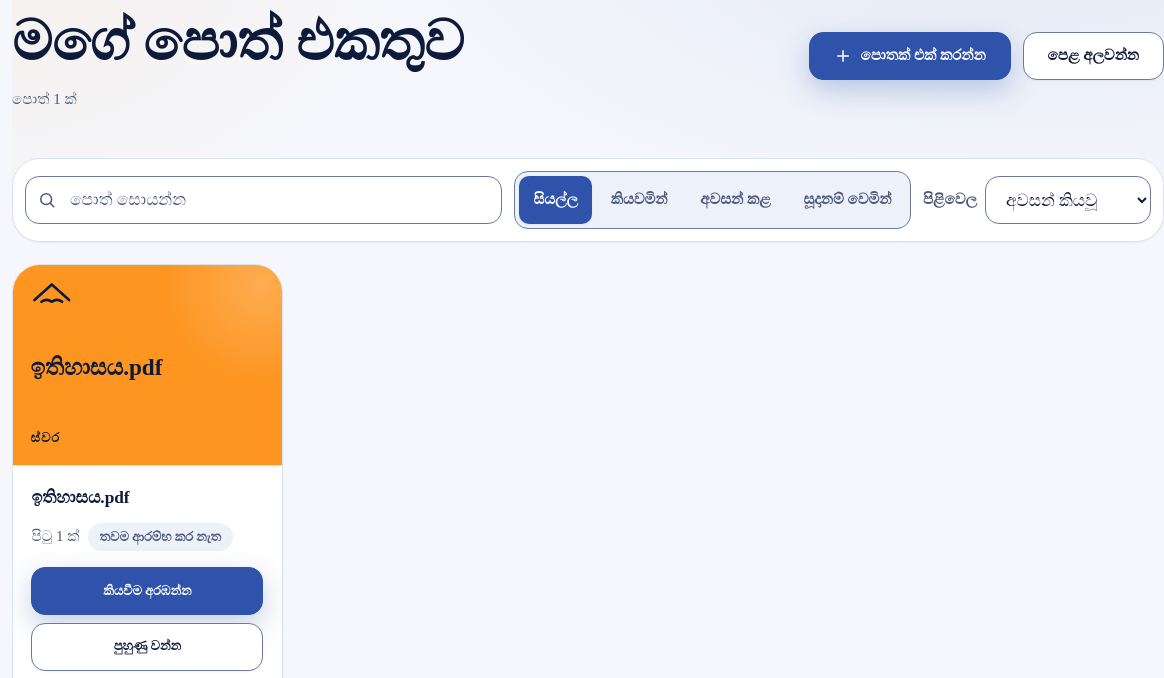
Test: the shelf › offers a way out of a search that found nothing
In the search field labelled "පොත් සොයන්න": (264, 200) [25, 176, 502, 224], type "zzzz"
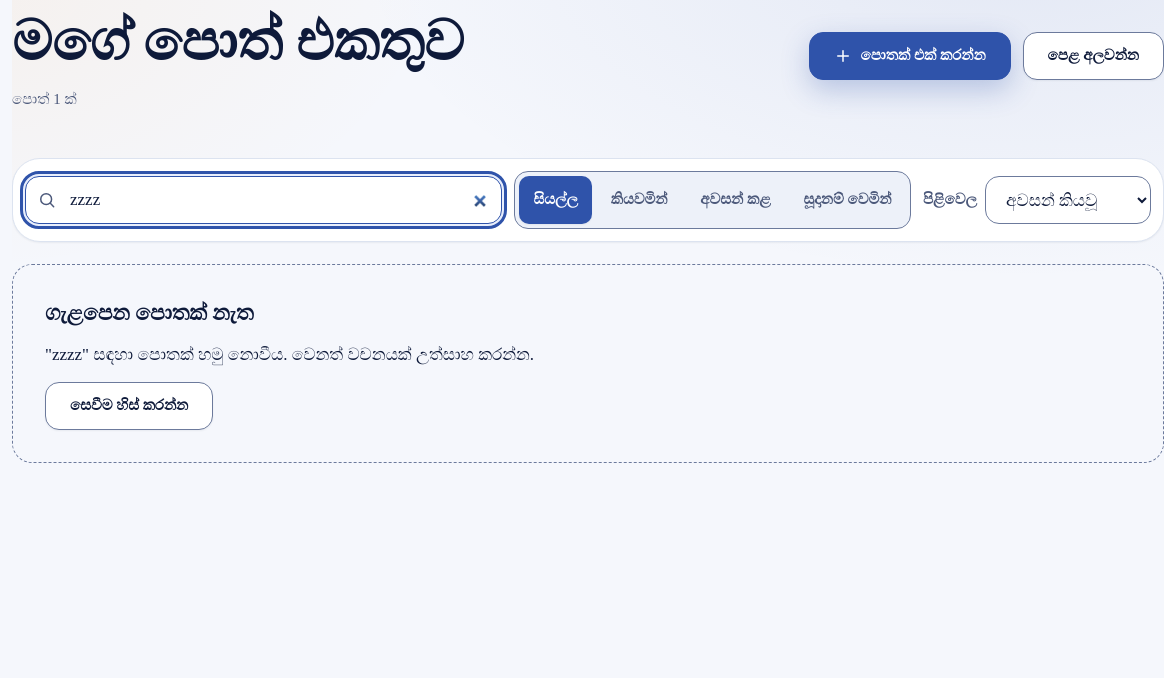
expect the heading "ගැළපෙන පොතක් නැත" is shown: met, box [45, 297, 254, 329]
Click the button "සෙවීම හිස් කරන්න": (129, 406) [45, 382, 213, 430]
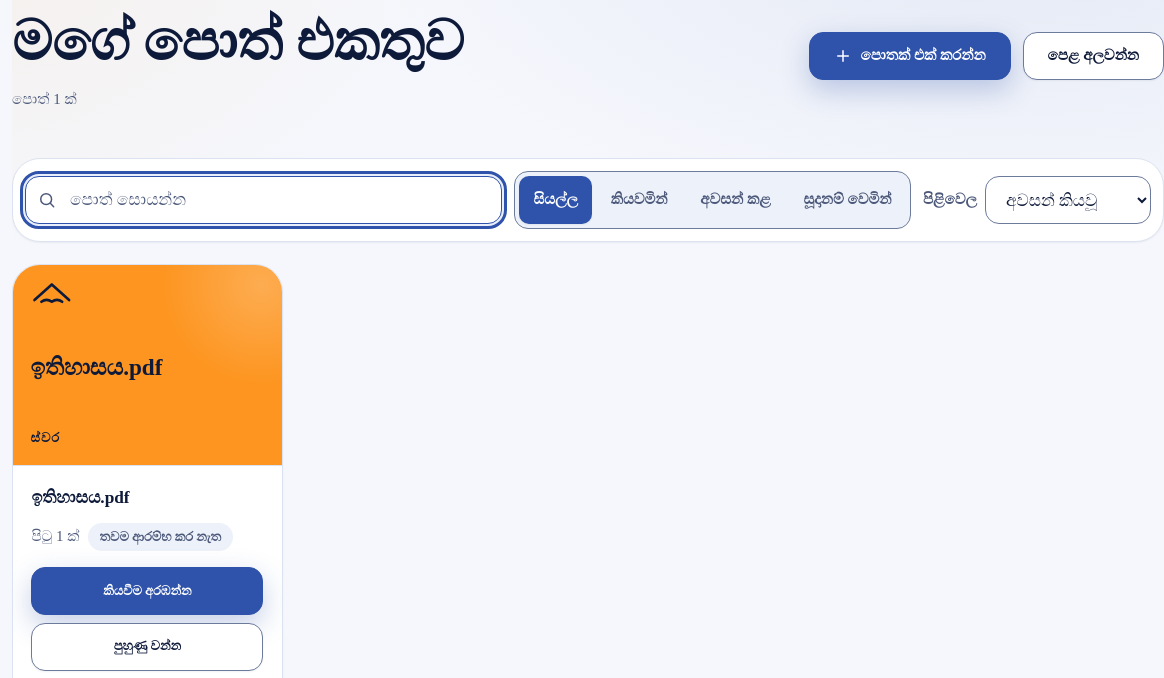
expect the heading "ඉතිහාසය.pdf" is shown: met, box [31, 488, 130, 507]
